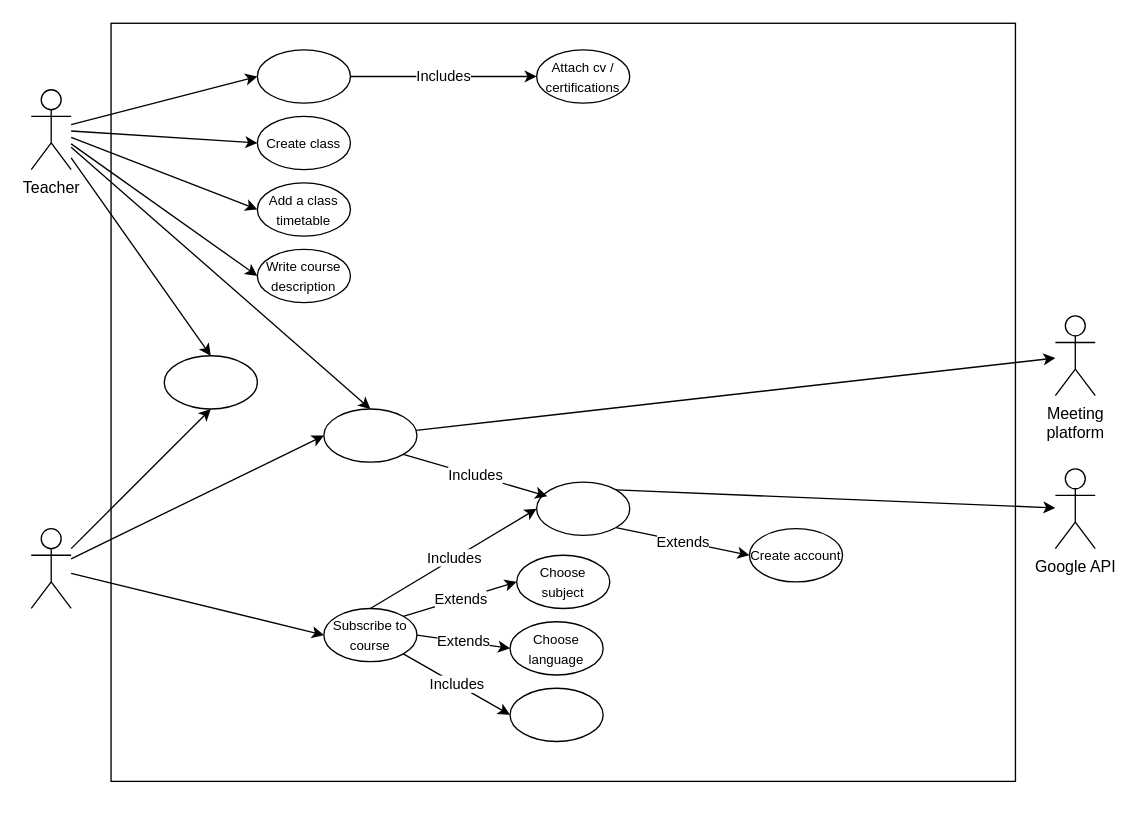
Image size: 1138x815. Some labels were removed from this diagram. Here are the shapes that lost their labels. From the top down, the centre of each, then its label:
At pixel 303 76: "Send course proposal".
At pixel 210 381: "Arrange privarte meetings".
At pixel 370 435: "Join class".
At pixel 582 508: "Login".
At pixel 50 567: "Student".
At pixel 556 714: "Choose payment method".
